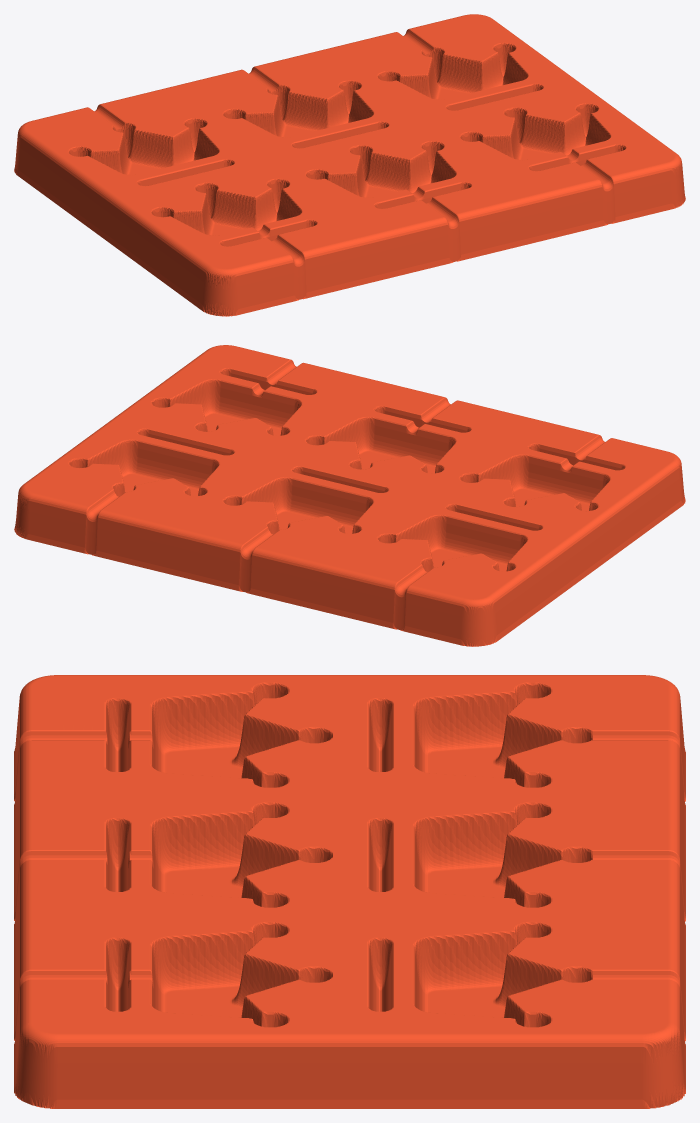
The model's file is mold.glb.
The picture shows the model from 3 angles, top to bottom: view 1: azimuth 30°, elevation 25°; view 2: azimuth 150°, elevation 25°; view 3: azimuth 270°, elevation 25°; orthographic projection. The views are drawn at different scales.
Parts seen in each view (by area): view 1: geometry_0; view 2: geometry_0; view 3: geometry_0.
Part boxes in pixels (x1,y1,x2,y2): geometry_0: (14, 14, 685, 316); geometry_0: (14, 345, 685, 646); geometry_0: (14, 675, 685, 1108).
Size of the model in its own units: 0.1824 by 0.0155 by 0.1391.
